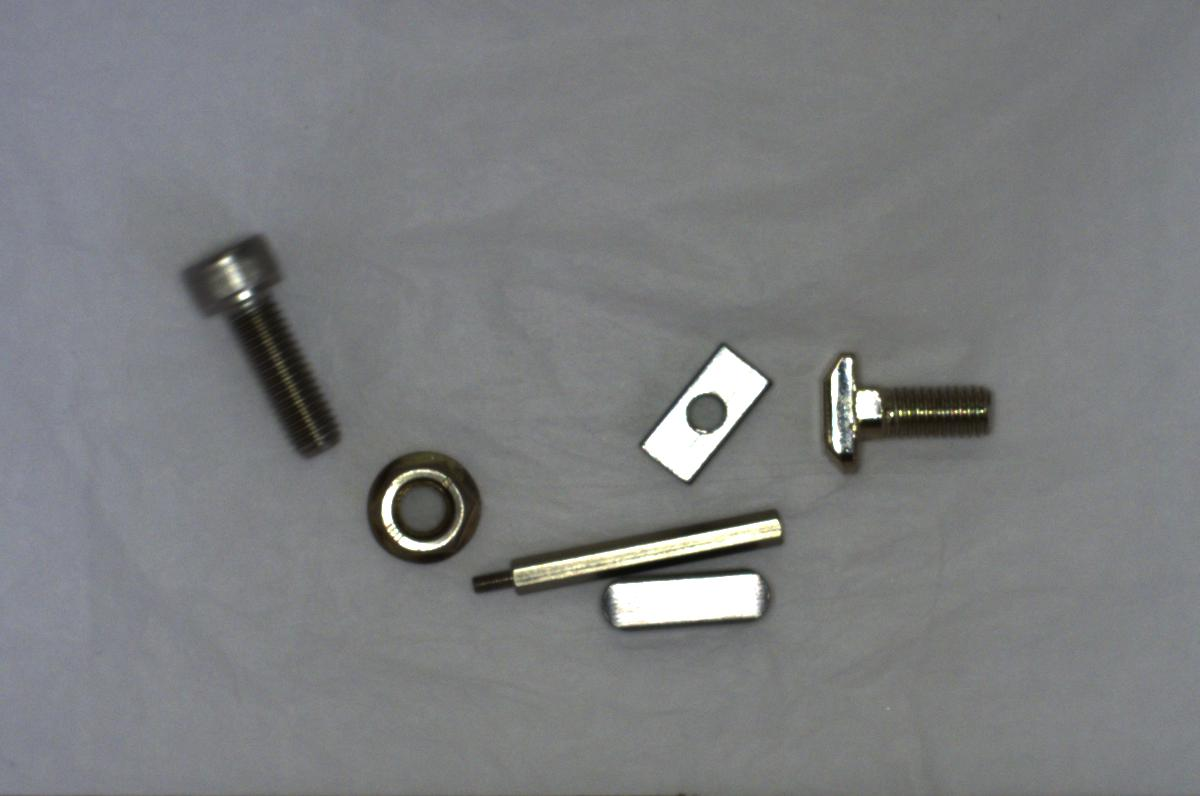Flange nut: (353, 442, 482, 568)
Hexagon screw: (175, 217, 344, 465)
Hexagonal steel column: (465, 501, 802, 596)
Keybar: (598, 567, 775, 636)
Rectangular nut: (632, 337, 773, 480)
T-shaped screw: (812, 337, 1001, 480)
